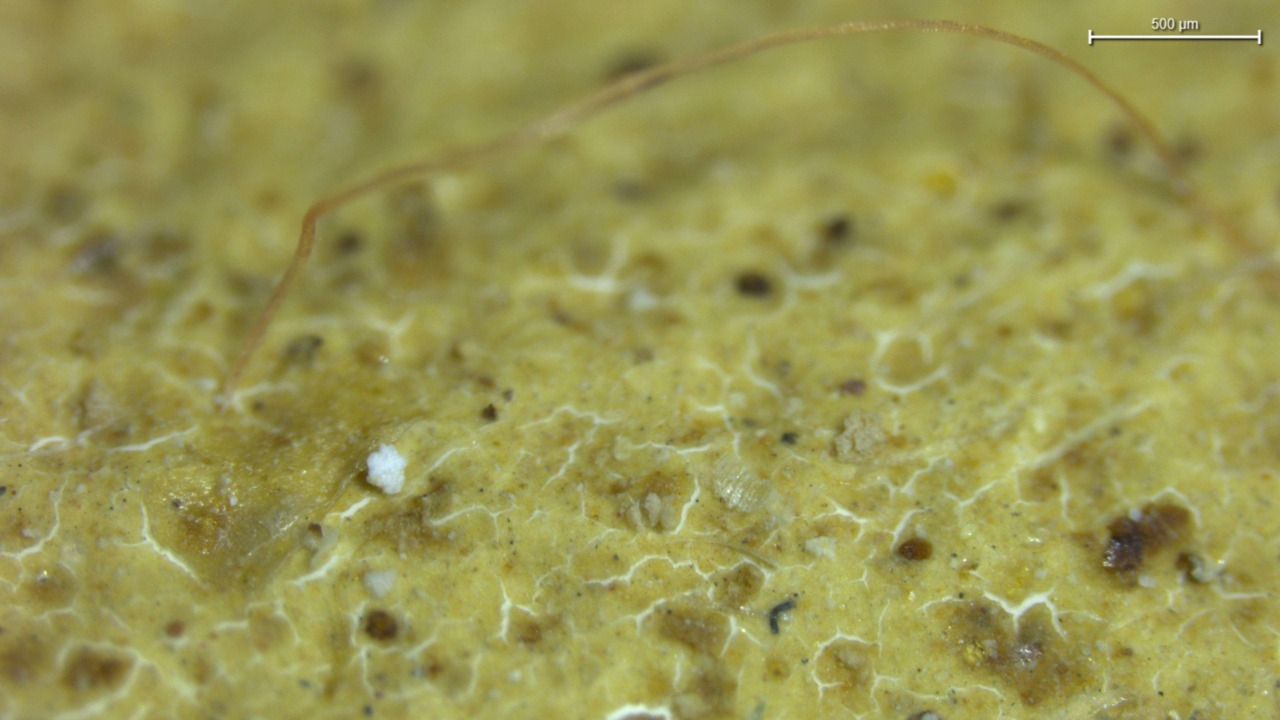microplastic_fragment: (834, 411, 887, 463), (365, 444, 408, 495)
